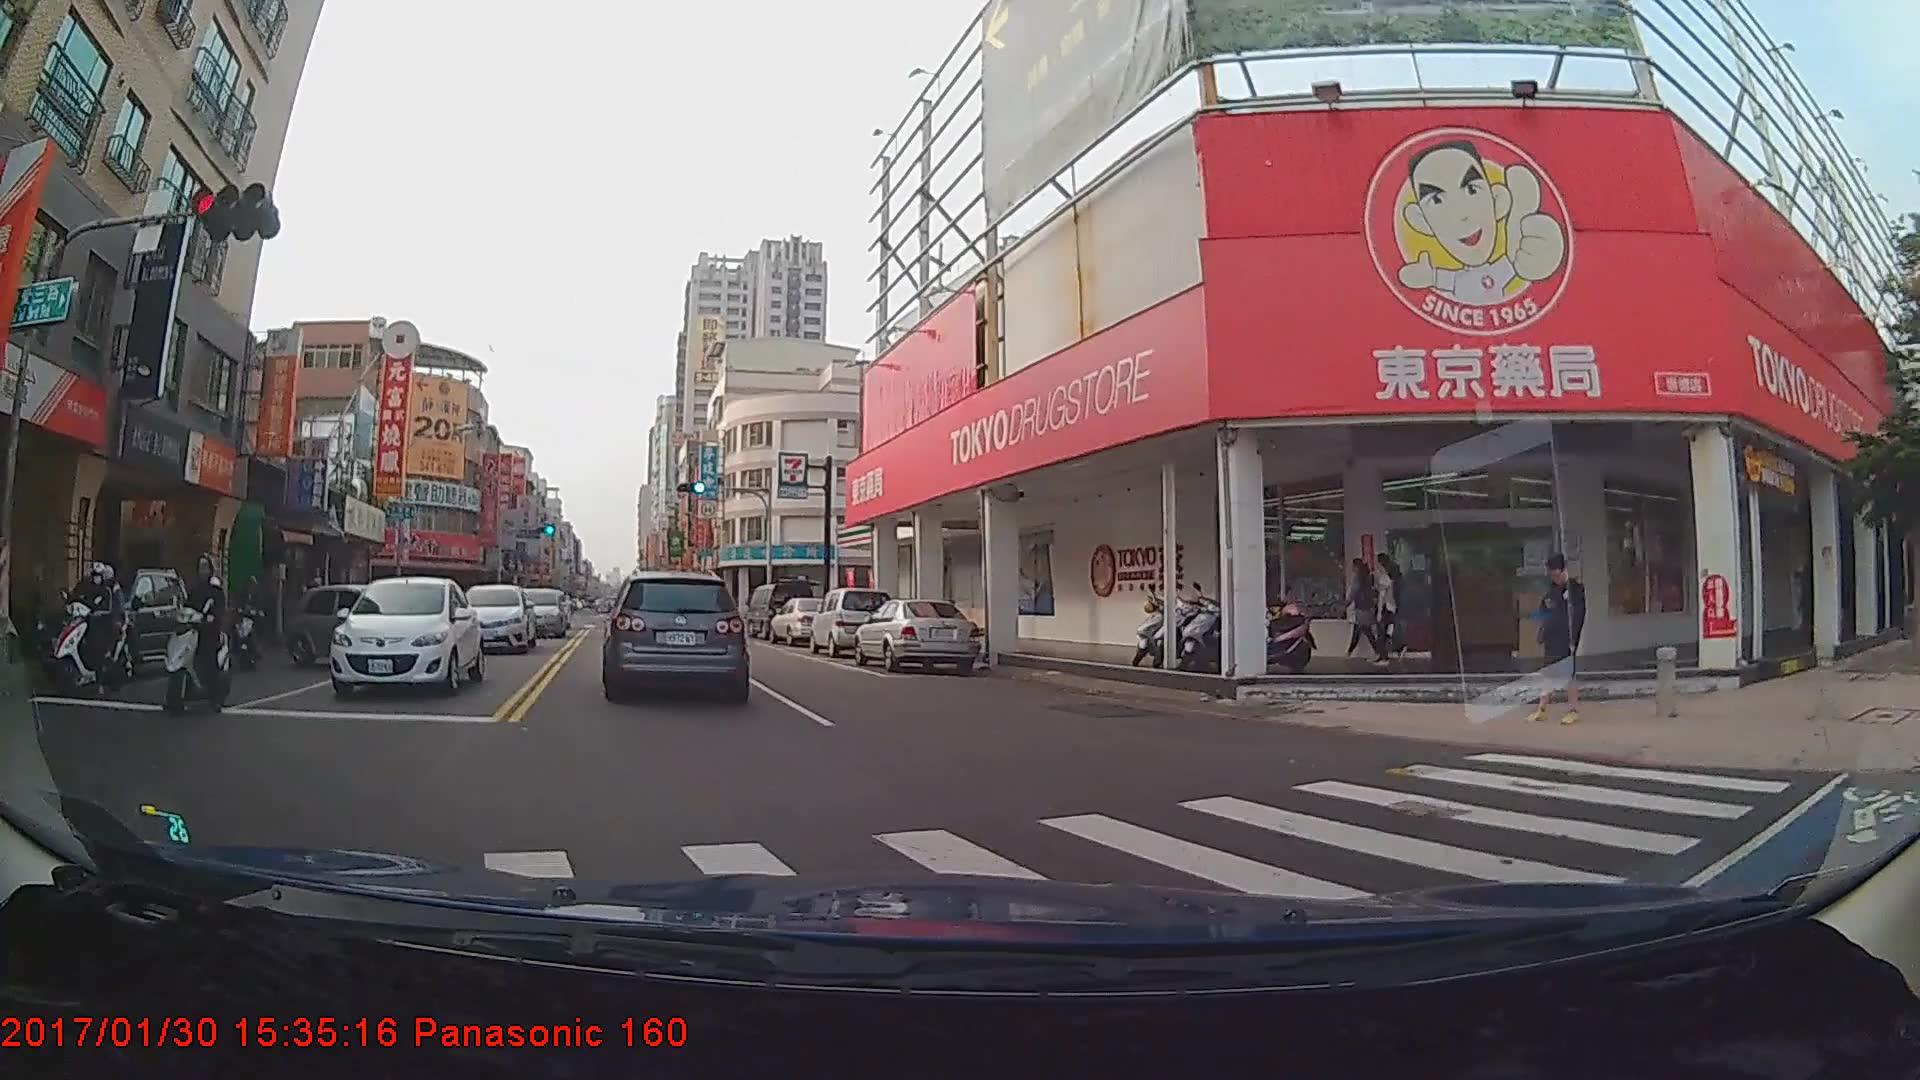pedestrian: (1531, 552, 1595, 726), (1345, 553, 1389, 665), (1375, 550, 1403, 666)
rider: (37, 559, 146, 696), (154, 550, 242, 718)
vehicle: (328, 574, 484, 697), (33, 562, 194, 679), (605, 573, 744, 703), (283, 579, 430, 668), (851, 597, 981, 674), (454, 583, 536, 653), (812, 588, 893, 658), (769, 595, 849, 642), (748, 581, 814, 638), (514, 587, 566, 638)
